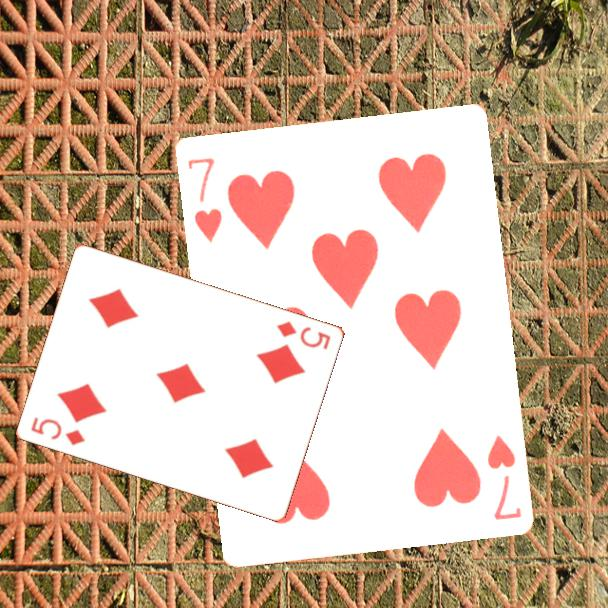d05: (273, 317, 334, 352), (28, 413, 88, 448)
h07: (483, 430, 524, 522), (183, 154, 224, 245)
